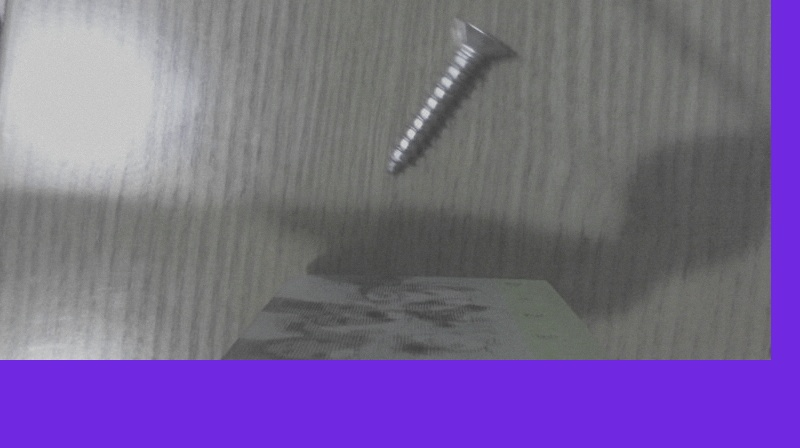S001: (383, 11, 524, 183)
